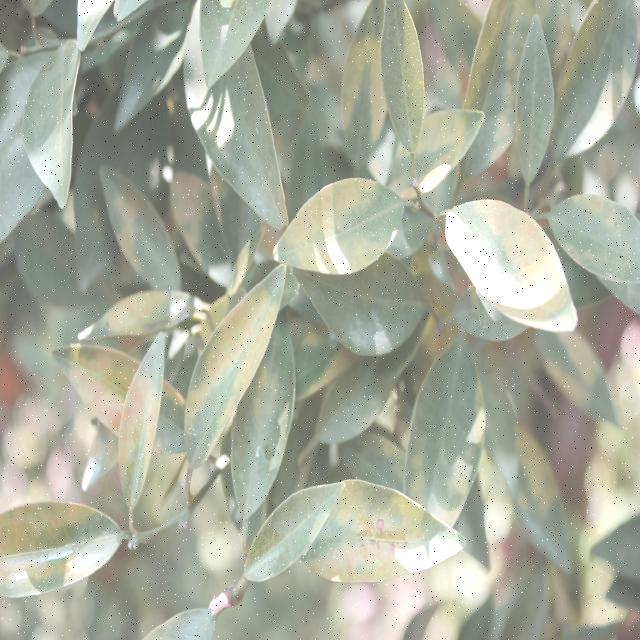greening: (181, 272, 286, 433), (454, 203, 552, 324), (289, 178, 407, 276), (0, 498, 121, 588), (116, 333, 170, 501)
